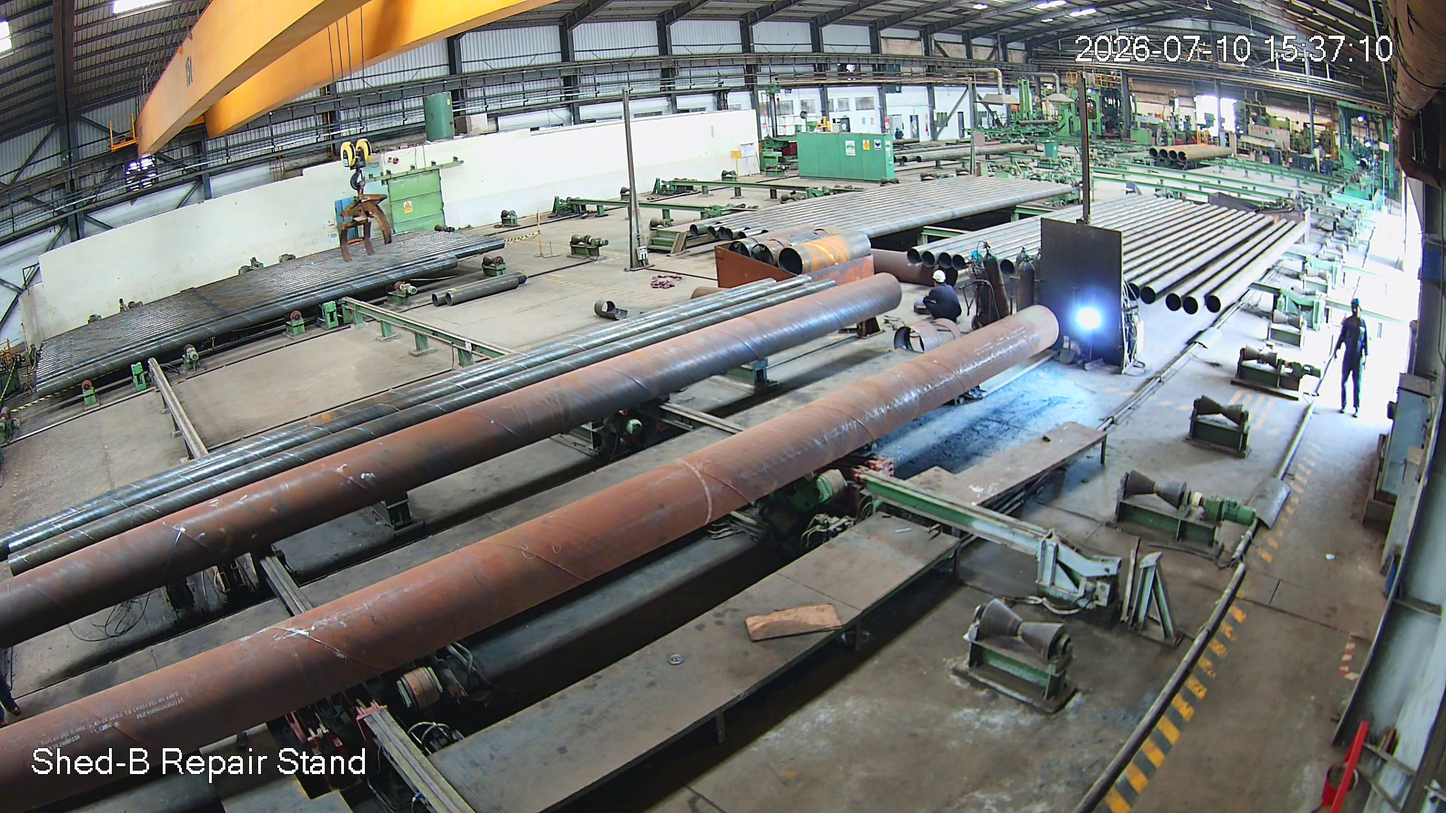Helmet: (1338, 291, 1371, 329), (924, 262, 953, 295)
Person: (1338, 296, 1372, 413), (914, 266, 958, 331)
